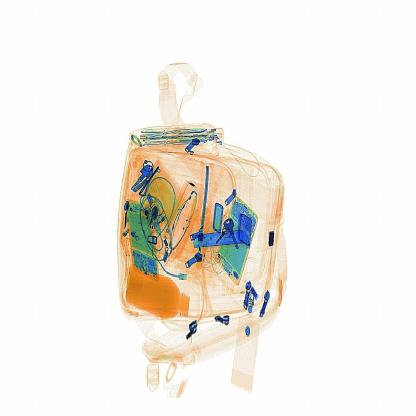pliers: (191, 212, 254, 261)
